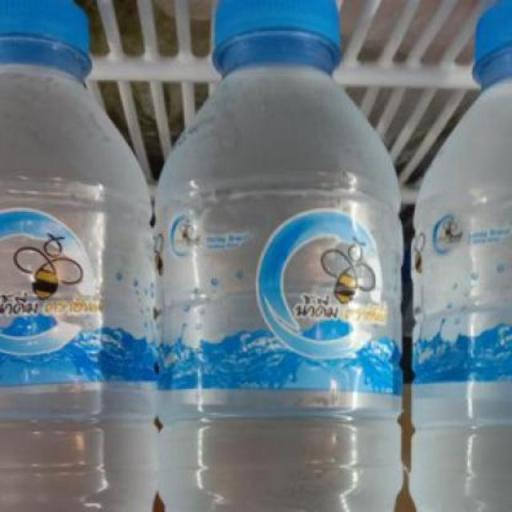Coca: (142, 0, 409, 510), (0, 0, 165, 510), (400, 0, 509, 510)
